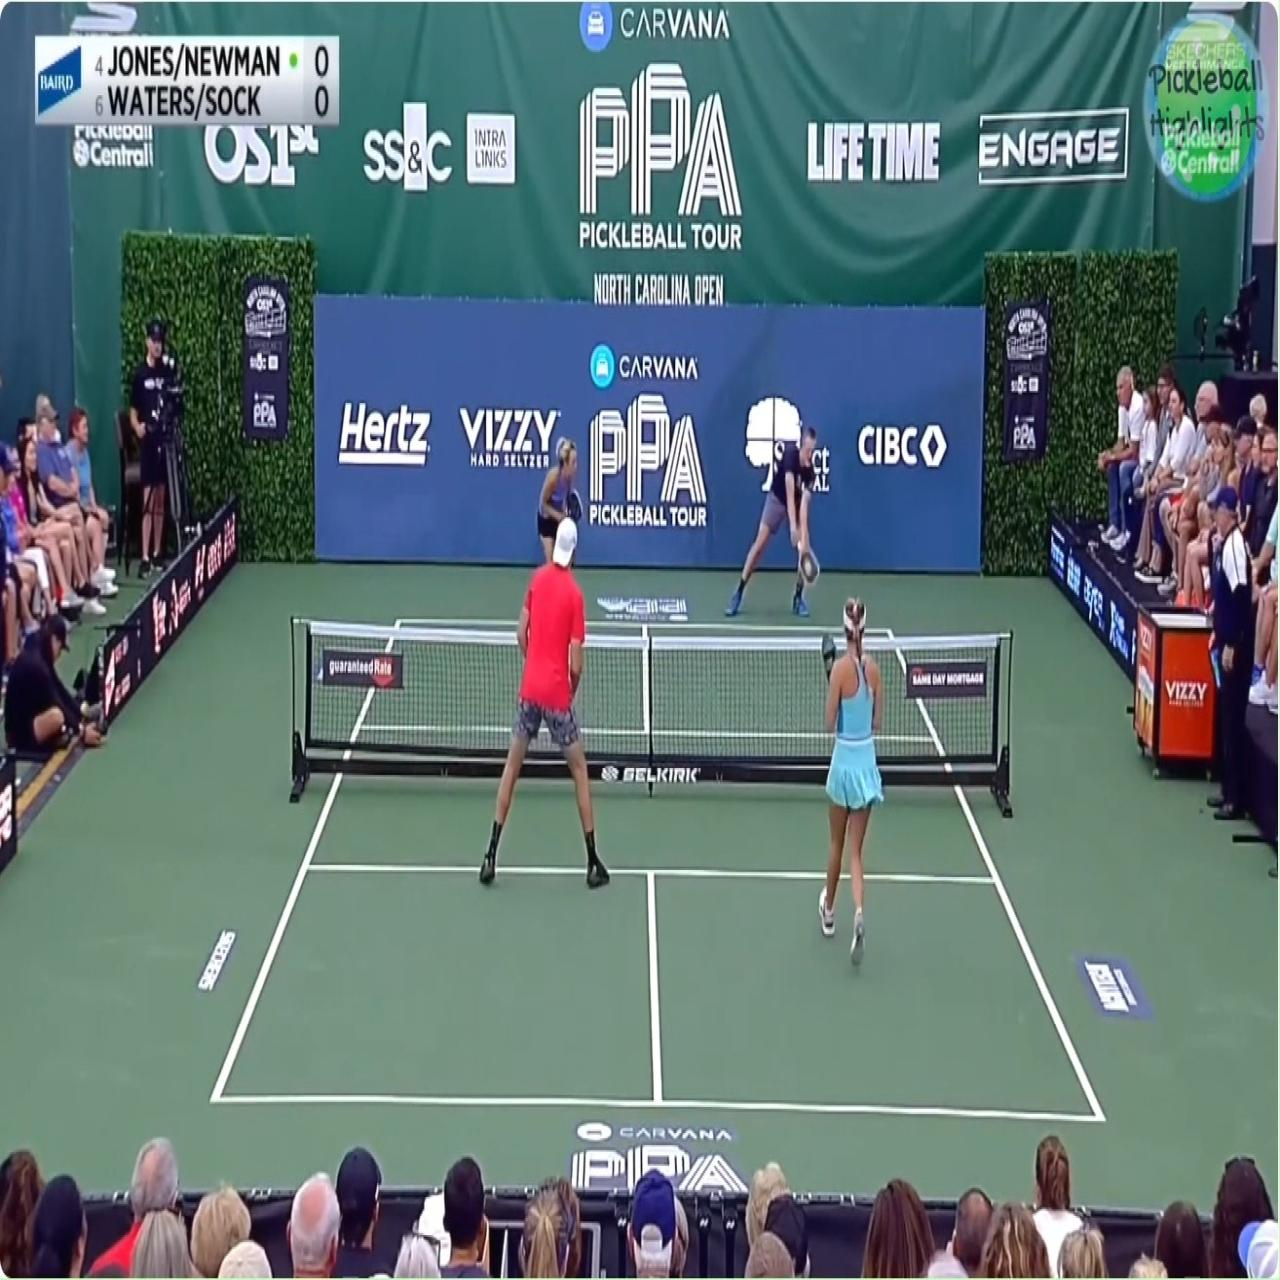pickleball: (803, 557, 812, 578)
